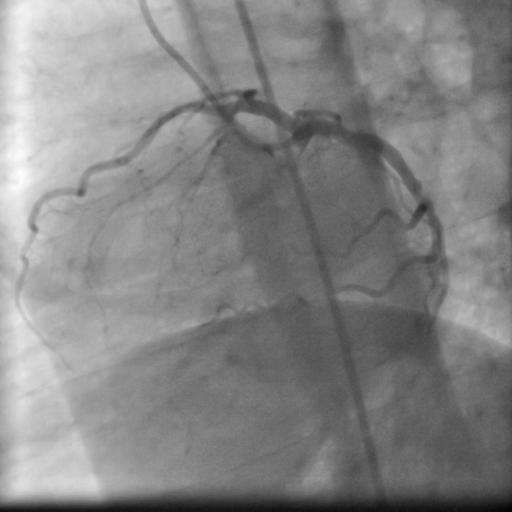Stenosis: (411, 189, 428, 202)
